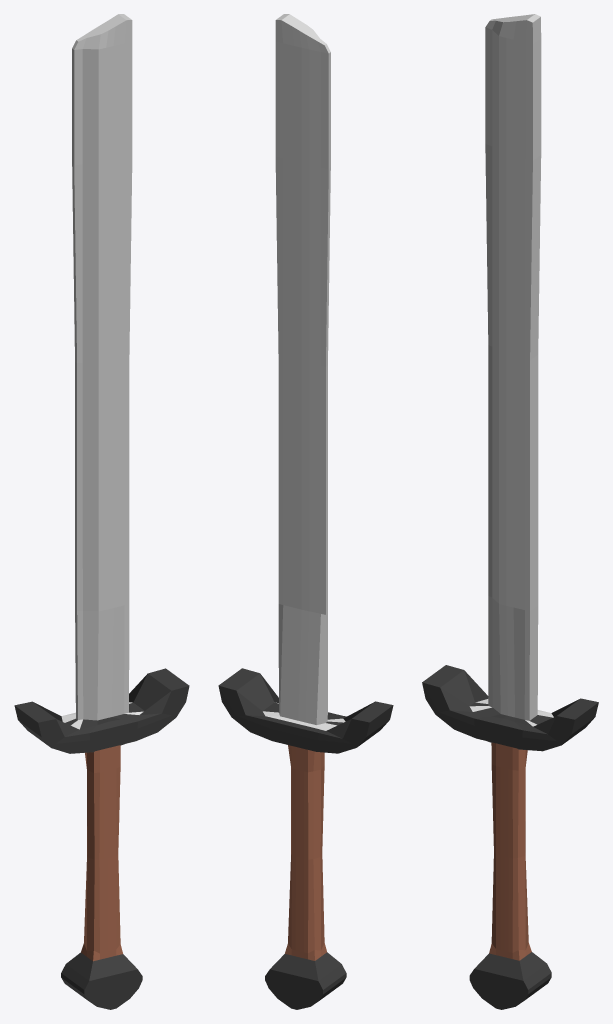
File: Sword Chopperfbx.fbx
3 views of the same model, side by side, from view 1: azimuth 30°, elevation 25°; view 2: azimuth 150°, elevation 25°; view 3: azimuth 330°, elevation 25° (orthographic).
Visible parts, largest first — view 1: Sword.009; view 2: Sword.009; view 3: Sword.009.
Part boxes in pixels (x1,y1,x2,y2): Sword.009: (14,14,189,1009); Sword.009: (218,14,393,1009); Sword.009: (422,14,598,1009).
Bounding box in the file's own units: 20.12 × 124 × 5.46.
